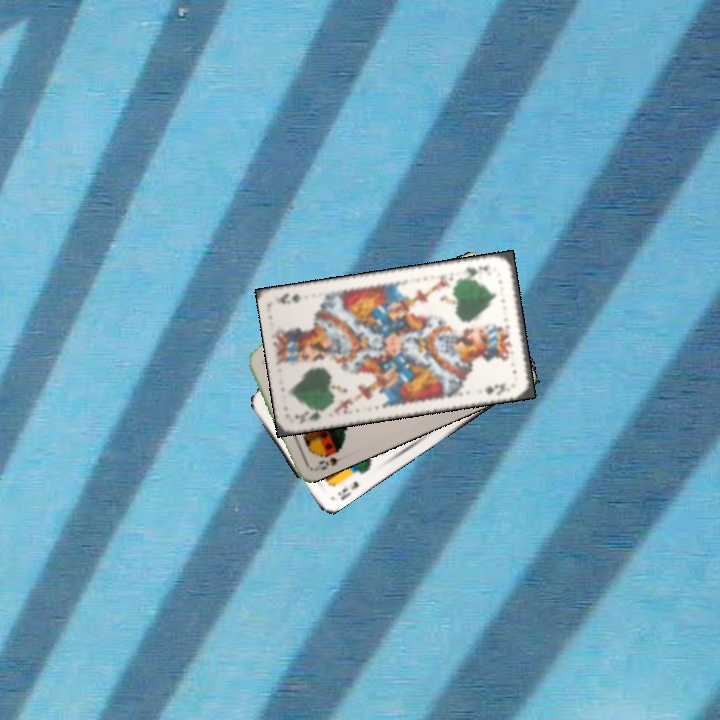EK: (333, 477, 361, 503)
GK: (291, 404, 330, 423), (458, 261, 491, 281)
SO: (310, 444, 348, 474)
